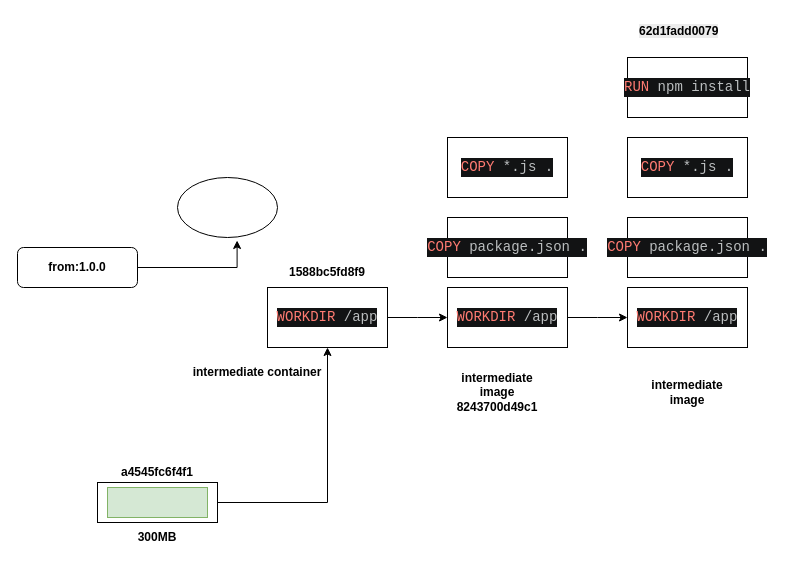
The diagram is 785 pixels wide and 569 high, and some of its shapes have lost their labels. Each missing label, with the centre of its shape:
FROM node:20: [157,502]
nodejs image: [227,207]
